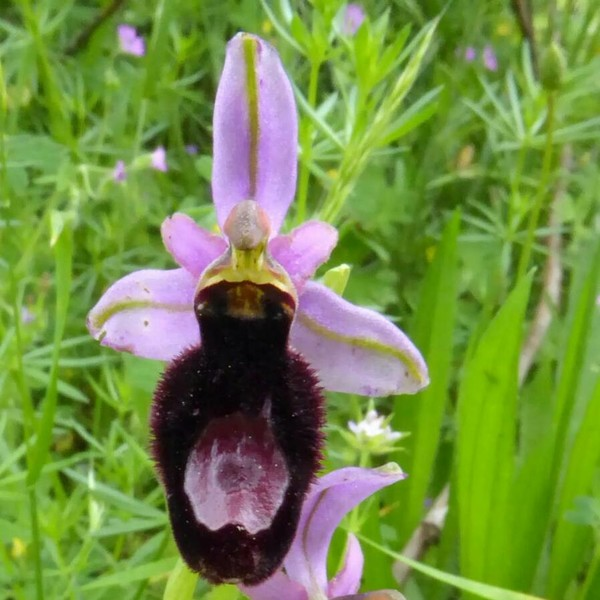obstacle: (126, 29, 368, 587), (386, 115, 583, 580)
